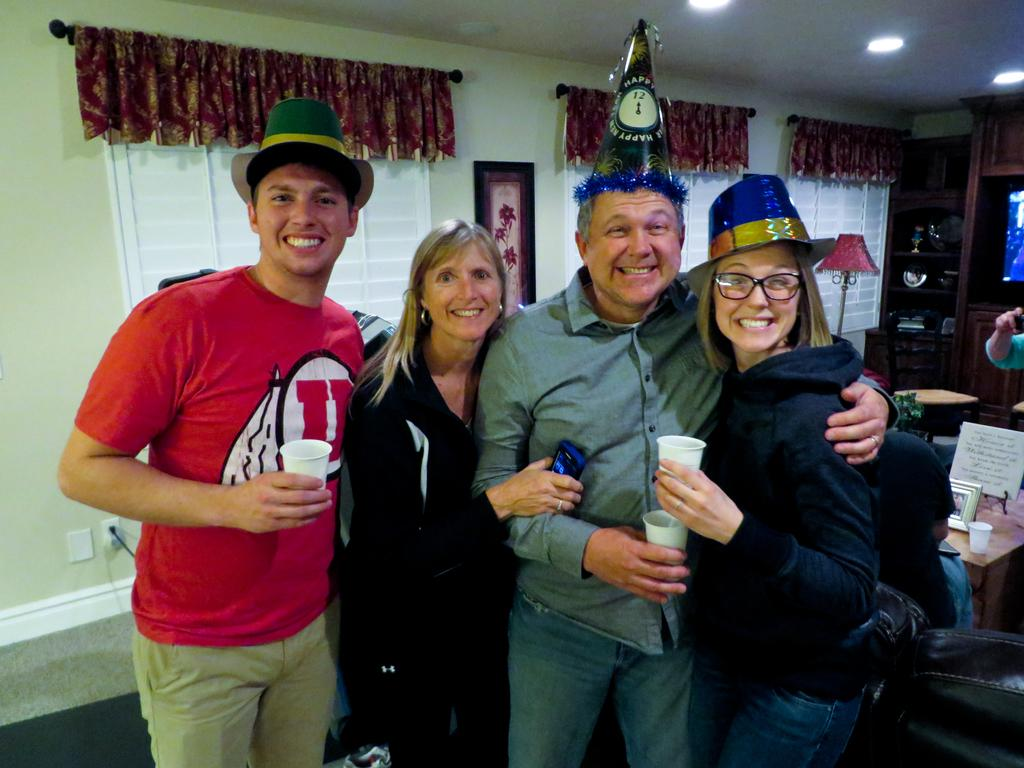Hat: (682, 178, 836, 296), (232, 97, 376, 208)
